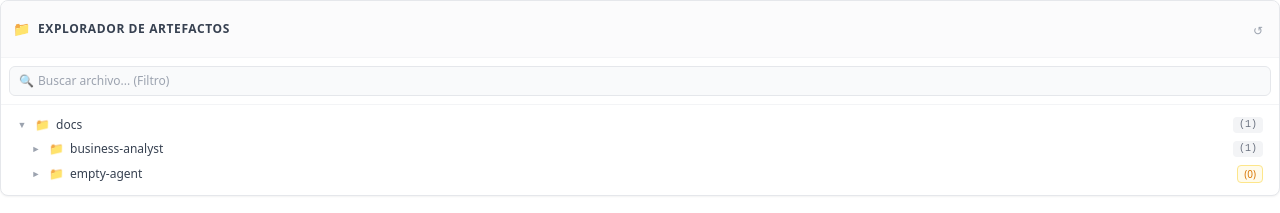
ArtifactTreeExplorer Component › AlEscribirEnFiltroDeBusqueda_DebeFiltrarNodosCoincidentes
In the field with placeholder "Buscar archivo... (Filtro)": {"x": 640, "y": 81} [9,66,1271,96], type "002-HU"
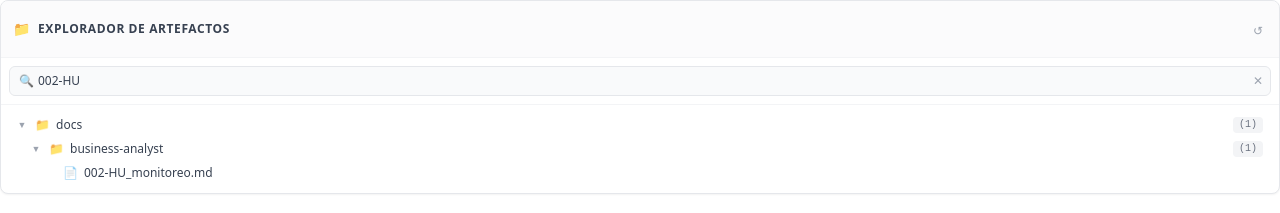
Expected: the text "002-HU_monitoreo.md" is shown, [84,164,213,181]
Expected: the text "empty-agent" is gone
